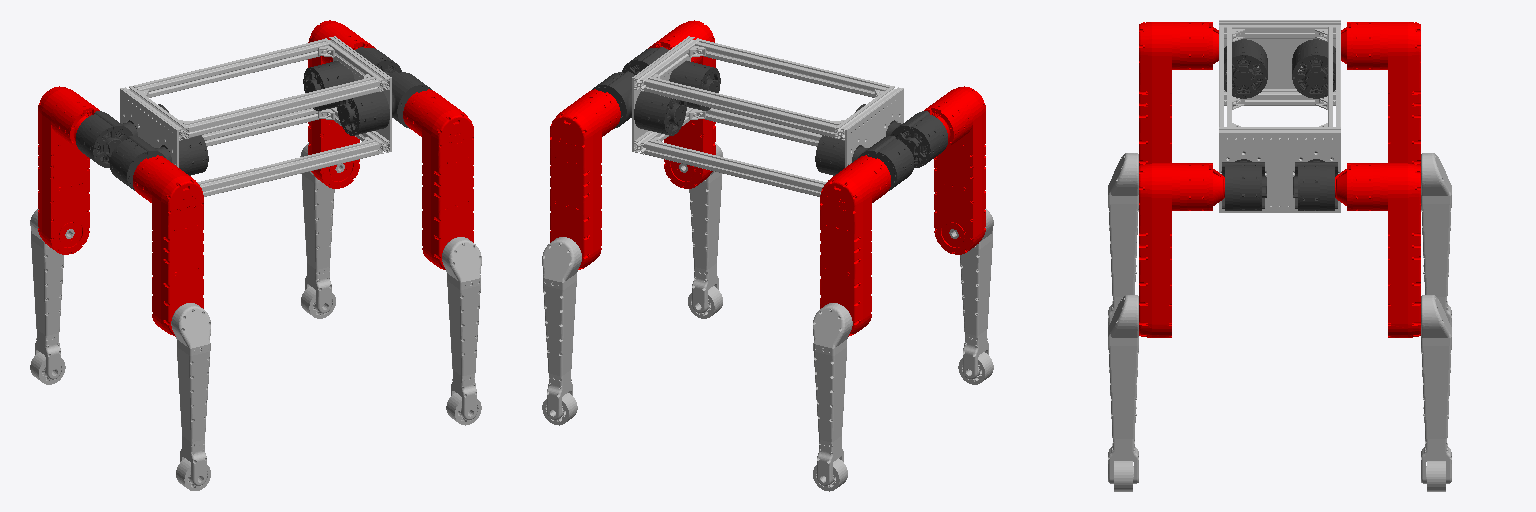
--- Facts derived from the render (not from the file) ---
3 views of the same robot in one strip: view 1: azimuth 30°, elevation 25°; view 2: azimuth 150°, elevation 25°; view 3: azimuth 270°, elevation 25° (orthographic).
Model dream_walker with 22 links and 21 joints (12 revolute, 9 fixed), rooted at base_link, posed all joints at 0.
Visible links, largest first — view 1: body_link, A2_link, C2_link, D2_link, C3_link, A3_link, D3_link, B3_link, B2_link, D1_link, A0_link, C1_link (+4 smaller); view 2: body_link, B2_link, D2_link, C2_link, D3_link, B3_link, C3_link, A3_link, A2_link, C1_link, B0_link, D1_link (+4 smaller); view 3: body_link, A2_link, B2_link, C2_link, D2_link, A3_link, B3_link, C3_link, D3_link, B1_link, A1_link, C0_link (+1 smaller).
Link boxes in pixels (x1=…): body_link: x1=120, y1=36, x2=391, y2=196; A2_link: x1=403, y1=89, x2=473, y2=269; C2_link: x1=133, y1=155, x2=203, y2=336; D2_link: x1=38, y1=86, x2=99, y2=254; C3_link: x1=171, y1=303, x2=210, y2=490; A3_link: x1=442, y1=237, x2=481, y2=425; D3_link: x1=30, y1=209, x2=74, y2=384; B3_link: x1=300, y1=143, x2=344, y2=318; B2_link: x1=308, y1=20, x2=375, y2=188; D1_link: x1=76, y1=111, x2=137, y2=167; A0_link: x1=337, y1=91, x2=389, y2=135; C1_link: x1=110, y1=136, x2=171, y2=190; body_link: x1=632, y1=36, x2=903, y2=196; B2_link: x1=550, y1=89, x2=620, y2=269; D2_link: x1=820, y1=155, x2=890, y2=336; C2_link: x1=924, y1=86, x2=985, y2=254; D3_link: x1=813, y1=303, x2=852, y2=491; B3_link: x1=542, y1=237, x2=581, y2=425; C3_link: x1=949, y1=209, x2=993, y2=384; A3_link: x1=679, y1=143, x2=722, y2=318; A2_link: x1=648, y1=20, x2=715, y2=188; C1_link: x1=886, y1=111, x2=947, y2=167; B0_link: x1=634, y1=91, x2=686, y2=135; D1_link: x1=852, y1=136, x2=913, y2=190; body_link: x1=1219, y1=20, x2=1340, y2=212; A2_link: x1=1139, y1=163, x2=1224, y2=337; B2_link: x1=1335, y1=163, x2=1420, y2=337; C2_link: x1=1139, y1=22, x2=1218, y2=165; D2_link: x1=1341, y1=22, x2=1420, y2=165; A3_link: x1=1108, y1=295, x2=1138, y2=491; B3_link: x1=1421, y1=295, x2=1451, y2=491; C3_link: x1=1108, y1=153, x2=1138, y2=326; D3_link: x1=1421, y1=153, x2=1451, y2=326; B1_link: x1=1293, y1=161, x2=1337, y2=210; A1_link: x1=1222, y1=161, x2=1266, y2=210; C0_link: x1=1224, y1=39, x2=1267, y2=98.
Size in the robot's own frame: 0.8771 by 0.785 by 0.863 metres.
Meshes: 17 distinct files referenced, 17 mesh visuals loaded (17 binary STL).

URDF robot description (dream_walker):
<?xml version="1.0" encoding="utf-8"?>
<!-- =================================================================================== -->
<!-- |    This document was autogenerated by xacro from dream_walker.urdf.xacro        | -->
<!-- |    EDITING THIS FILE BY HAND IS NOT RECOMMENDED                                 | -->
<!-- =================================================================================== -->
<robot name="dream_walker">
  <material name="red">
    <color rgba="1.0 0.0 0.0 2.0"/>
  </material>
  <material name="gray">
    <color rgba="0.4 0.4 0.6 2.0"/>
  </material>
  <material name="light_gray">
    <color rgba="0.8 0.8 0.8 2.0"/>
  </material>
  <material name="silver">
    <color rgba="0.75 0.75 0.75 2.0"/>
  </material>
  <material name="black">
    <color rgba="0.3 0.3 0.3 2.0"/>
  </material>
  <!-- body -->
  <link name="base_link"/>
  <joint name="body_link_joint" type="fixed">
    <parent link="base_link"/>
    <child link="body_link"/>
  </joint>
  <link name="body_link">
    <visual>
      <geometry>
        <mesh filename="package://dream_walker_description/meshes/body.STL"/>
      </geometry>
      <material name="">
        <color rgba="0.8 0.8 0.8 2.0"/>
      </material>
    </visual>
    <collision>
      <geometry>
        <mesh filename="package://dream_walker_description/meshes/body.STL"/>
      </geometry>
    </collision>
    <inertial>
      <origin xyz="0 0 0"/>
      <mass value="3.0"/>
      <inertia ixx="0.027819" ixy="1.0E-6" ixz="0" iyy="0.106496" iyz="0" izz="0.113695"/>
    </inertial>
  </link>
  <joint name="A0_joint" type="fixed">
    <origin rpy="0 0 0" xyz="0.3 -0.083 0.0"/>
    <parent link="base_link"/>
    <child link="A0_link"/>
    <axis xyz="0 0 0"/>
  </joint>
  <link name="A0_link">
    <visual>
      <origin xyz="-0.3 0.083 -0.0"/>
      <geometry>
        <mesh filename="package://dream_walker_description/meshes/A0_link.STL"/>
      </geometry>
      <material name="black"/>
    </visual>
    <collision>
      <geometry>
        <mesh filename="package://dream_walker_description/meshes/A0_link.STL"/>
      </geometry>
    </collision>
    <inertial>
      <origin xyz="0.261 -0.08298 -1e-05"/>
      <mass value="1.75"/>
      <inertia ixx="0.002137" ixy="1e-06" ixz="5e-06" iyy="0.002443" iyz="0" izz="0.002444"/>
    </inertial>
  </link>
  <joint name="B0_joint" type="fixed">
    <origin rpy="0 0 0" xyz="0.3 0.083 0.0"/>
    <parent link="base_link"/>
    <child link="B0_link"/>
    <axis xyz="0 0 0"/>
  </joint>
  <link name="B0_link">
    <visual>
      <origin xyz="-0.3 -0.083 -0.0"/>
      <geometry>
        <mesh filename="package://dream_walker_description/meshes/B0_link.STL"/>
      </geometry>
      <material name="black"/>
    </visual>
    <collision>
      <geometry>
        <mesh filename="package://dream_walker_description/meshes/B0_link.STL"/>
      </geometry>
    </collision>
    <inertial>
      <origin xyz="0.261 0.08298 -1e-05"/>
      <mass value="1.75"/>
      <inertia ixx="0.002137" ixy="1e-06" ixz="5e-06" iyy="0.002443" iyz="0" izz="0.002444"/>
    </inertial>
  </link>
  <joint name="C0_joint" type="fixed">
    <origin rpy="0 0 0" xyz="-0.3 -0.083 0.0"/>
    <parent link="base_link"/>
    <child link="C0_link"/>
    <axis xyz="0 0 0"/>
  </joint>
  <link name="C0_link">
    <visual>
      <origin xyz="0.3 0.083 -0.0"/>
      <geometry>
        <mesh filename="package://dream_walker_description/meshes/C0_link.STL"/>
      </geometry>
      <material name="black"/>
    </visual>
    <collision>
      <geometry>
        <mesh filename="package://dream_walker_description/meshes/C0_link.STL"/>
      </geometry>
    </collision>
    <inertial>
      <origin xyz="-0.261 -0.08298 -1e-05"/>
      <mass value="1.75"/>
      <inertia ixx="0.002137" ixy="-1e-06" ixz="5e-06" iyy="0.002443" iyz="0" izz="0.002444"/>
    </inertial>
  </link>
  <joint name="D0_joint" type="fixed">
    <origin rpy="0 0 0" xyz="-0.3 0.083 0.0"/>
    <parent link="base_link"/>
    <child link="D0_link"/>
    <axis xyz="0 0 0"/>
  </joint>
  <link name="D0_link">
    <visual>
      <origin xyz="0.3 -0.083 -0.0"/>
      <geometry>
        <mesh filename="package://dream_walker_description/meshes/D0_link.STL"/>
      </geometry>
      <material name="black"/>
    </visual>
    <collision>
      <geometry>
        <mesh filename="package://dream_walker_description/meshes/D0_link.STL"/>
      </geometry>
    </collision>
    <inertial>
      <origin xyz="-0.261 0.08298 -1e-05"/>
      <mass value="1.75"/>
      <inertia ixx="0.002137" ixy="-1e-06" ixz="5e-06" iyy="0.002443" iyz="0" izz="0.002444"/>
    </inertial>
  </link>
  <joint name="A1_joint" type="revolute">
    <origin rpy="0 0 0" xyz="0.0835 -0.0 0.0"/>
    <parent link="A0_link"/>
    <child link="A1_link"/>
    <axis xyz="1 0 0"/>
    <limit effort="1000" lower="-3.1416" upper="3.1416" velocity="1000"/>
  </joint>
  <link name="A1_link">
    <visual>
      <origin xyz="-0.3835 0.083 -0.0"/>
      <geometry>
        <mesh filename="package://dream_walker_description/meshes/A1_link.STL"/>
      </geometry>
      <material name="black"/>
    </visual>
    <collision>
      <geometry>
        <mesh filename="package://dream_walker_description/meshes/A1_link.STL"/>
      </geometry>
    </collision>
    <inertial>
      <origin xyz="0.1181 -0.00111 -4e-05"/>
      <mass value="1.74"/>
      <inertia ixx="0.00229" ixy="8e-06" ixz="1e-06" iyy="0.002657" iyz="1e-06" izz="0.002511"/>
    </inertial>
  </link>
  <joint name="B1_joint" type="revolute">
    <origin rpy="0 0 0" xyz="0.0835 0.0 0.0"/>
    <parent link="B0_link"/>
    <child link="B1_link"/>
    <axis xyz="1 0 0"/>
    <limit effort="1000" lower="-3.1416" upper="3.1416" velocity="1000"/>
  </joint>
  <link name="B1_link">
    <visual>
      <origin xyz="-0.3835 -0.083 -0.0"/>
      <geometry>
        <mesh filename="package://dream_walker_description/meshes/B1_link.STL"/>
      </geometry>
      <material name="black"/>
    </visual>
    <collision>
      <geometry>
        <mesh filename="package://dream_walker_description/meshes/B1_link.STL"/>
      </geometry>
    </collision>
    <inertial>
      <origin xyz="0.1181 0.00111 -4e-05"/>
      <mass value="1.74"/>
      <inertia ixx="0.00229" ixy="8e-06" ixz="1e-06" iyy="0.002657" iyz="1e-06" izz="0.002511"/>
    </inertial>
  </link>
  <joint name="C1_joint" type="revolute">
    <origin rpy="0 0 0" xyz="-0.0835 -0.0 0.0"/>
    <parent link="C0_link"/>
    <child link="C1_link"/>
    <axis xyz="1 0 0"/>
    <limit effort="1000" lower="-3.1416" upper="3.1416" velocity="1000"/>
  </joint>
  <link name="C1_link">
    <visual>
      <origin xyz="0.3835 0.083 -0.0"/>
      <geometry>
        <mesh filename="package://dream_walker_description/meshes/C1_link.STL"/>
      </geometry>
      <material name="black"/>
    </visual>
    <collision>
      <geometry>
        <mesh filename="package://dream_walker_description/meshes/C1_link.STL"/>
      </geometry>
    </collision>
    <inertial>
      <origin xyz="-0.1181 -0.00111 -4e-05"/>
      <mass value="1.74"/>
      <inertia ixx="0.00229" ixy="-8e-06" ixz="1e-06" iyy="0.002657" iyz="1e-06" izz="0.002511"/>
    </inertial>
  </link>
  <joint name="D1_joint" type="revolute">
    <origin rpy="0 0 0" xyz="-0.0835 0.0 0.0"/>
    <parent link="D0_link"/>
    <child link="D1_link"/>
    <axis xyz="1 0 0"/>
    <limit effort="1000" lower="-3.1416" upper="3.1416" velocity="1000"/>
  </joint>
  <link name="D1_link">
    <visual>
      <origin xyz="0.3835 -0.083 -0.0"/>
      <geometry>
        <mesh filename="package://dream_walker_description/meshes/D1_link.STL"/>
      </geometry>
      <material name="black"/>
    </visual>
    <collision>
      <geometry>
        <mesh filename="package://dream_walker_description/meshes/D1_link.STL"/>
      </geometry>
    </collision>
    <inertial>
      <origin xyz="-0.1181 0.00111 -4e-05"/>
      <mass value="1.74"/>
      <inertia ixx="0.00229" ixy="-8e-06" ixz="1e-06" iyy="0.002657" iyz="1e-06" izz="0.002511"/>
    </inertial>
  </link>
  <joint name="A2_joint" type="revolute">
    <origin rpy="0 0 0" xyz="0.0 -0.2095 0.0"/>
    <parent link="A1_link"/>
    <child link="A2_link"/>
    <axis xyz="0 1 0"/>
    <limit effort="1000" lower="-9.42" upper="9.42" velocity="1000"/>
  </joint>
  <link name="A2_link">
    <visual>
      <origin xyz="-0.3835 0.2925 0.0"/>
      <geometry>
        <mesh filename="package://dream_walker_description/meshes/A2_link.STL"/>
      </geometry>
      <material name="red"/>
    </visual>
    <collision>
      <geometry>
        <mesh filename="package://dream_walker_description/meshes/A2_link.STL"/>
      </geometry>
    </collision>
    <inertial>
      <origin xyz="0.0044 -0.16181 -0.09715"/>
      <mass value="3.66"/>
      <inertia ixx="0.075241" ixy="0" ixz="-5e-06" iyy="0.069683" iyz="0.013776" izz="0.011896"/>
    </inertial>
  </link>
  <joint name="B2_joint" type="revolute">
    <origin rpy="0 0 0" xyz="0.0 0.2095 0.0"/>
    <parent link="B1_link"/>
    <child link="B2_link"/>
    <axis xyz="0 1 0"/>
    <limit effort="1000" lower="-9.42" upper="9.42" velocity="1000"/>
  </joint>
  <link name="B2_link">
    <visual>
      <origin xyz="-0.3835 -0.2925 0.0"/>
      <geometry>
        <mesh filename="package://dream_walker_description/meshes/B2_link.STL"/>
      </geometry>
      <material name="red"/>
    </visual>
    <collision>
      <geometry>
        <mesh filename="package://dream_walker_description/meshes/B2_link.STL"/>
      </geometry>
    </collision>
    <inertial>
      <origin xyz="0.0044 0.16181 -0.09715"/>
      <mass value="3.66"/>
      <inertia ixx="0.075241" ixy="0" ixz="5e-06" iyy="0.069683" iyz="-0.013776" izz="0.011896"/>
    </inertial>
  </link>
  <joint name="C2_joint" type="revolute">
    <origin rpy="0 0 0" xyz="-0.0 -0.2095 0.0"/>
    <parent link="C1_link"/>
    <child link="C2_link"/>
    <axis xyz="0 1 0"/>
    <limit effort="1000" lower="-9.42" upper="9.42" velocity="1000"/>
  </joint>
  <link name="C2_link">
    <visual>
      <origin xyz="0.3835 0.2925 0.0"/>
      <geometry>
        <mesh filename="package://dream_walker_description/meshes/C2_link.STL"/>
      </geometry>
      <material name="red"/>
    </visual>
    <collision>
      <geometry>
        <mesh filename="package://dream_walker_description/meshes/C2_link.STL"/>
      </geometry>
    </collision>
    <inertial>
      <origin xyz="-0.0044 -0.16181 -0.09715"/>
      <mass value="3.66"/>
      <inertia ixx="0.075241" ixy="0" ixz="-5e-06" iyy="0.069683" iyz="0.013776" izz="0.011896"/>
    </inertial>
  </link>
  <joint name="D2_joint" type="revolute">
    <origin rpy="0 0 0" xyz="-0.0 0.2095 0.0"/>
    <parent link="D1_link"/>
    <child link="D2_link"/>
    <axis xyz="0 1 0"/>
    <limit effort="1000" lower="-9.42" upper="9.42" velocity="1000"/>
  </joint>
  <link name="D2_link">
    <visual>
      <origin xyz="0.3835 -0.2925 0.0"/>
      <geometry>
        <mesh filename="package://dream_walker_description/meshes/D2_link.STL"/>
      </geometry>
      <material name="red"/>
    </visual>
    <collision>
      <geometry>
        <mesh filename="package://dream_walker_description/meshes/D2_link.STL"/>
      </geometry>
    </collision>
    <inertial>
      <origin xyz="-0.0044 0.16181 -0.09715"/>
      <mass value="3.66"/>
      <inertia ixx="0.075241" ixy="0" ixz="5e-06" iyy="0.069683" iyz="-0.013776" izz="0.011896"/>
    </inertial>
  </link>
  <joint name="A3_joint" type="revolute">
    <origin rpy="0 0 0" xyz="0.0 -0.065 -0.32"/>
    <parent link="A2_link"/>
    <child link="A3_link"/>
    <axis xyz="0 1 0"/>
    <limit effort="1000" lower="-9.42" upper="9.42" velocity="1000"/>
  </joint>
  <link name="A3_link">
    <visual>
      <origin xyz="-0.3835 0.3575 0.32"/>
      <geometry>
        <mesh filename="package://dream_walker_description/meshes/A3_link.STL"/>
      </geometry>
      <material name="silver"/>
    </visual>
    <collision>
      <geometry>
        <mesh filename="package://dream_walker_description/meshes/A3_link.STL"/>
      </geometry>
    </collision>
    <inertial>
      <origin xyz="0.0 -0.11169 -0.41291"/>
      <mass value="1.72"/>
      <inertia ixx="0.026984" ixy="0" ixz="-0" iyy="0.026649" iyz="0.000717" izz="0.001426"/>
    </inertial>
  </link>
  <joint name="B3_joint" type="revolute">
    <origin rpy="0 0 0" xyz="0.0 0.065 -0.32"/>
    <parent link="B2_link"/>
    <child link="B3_link"/>
    <axis xyz="0 1 0"/>
    <limit effort="1000" lower="-9.42" upper="9.42" velocity="1000"/>
  </joint>
  <link name="B3_link">
    <visual>
      <origin xyz="-0.3835 -0.3575 0.32"/>
      <geometry>
        <mesh filename="package://dream_walker_description/meshes/B3_link.STL"/>
      </geometry>
      <material name="silver"/>
    </visual>
    <collision>
      <geometry>
        <mesh filename="package://dream_walker_description/meshes/B3_link.STL"/>
      </geometry>
    </collision>
    <inertial>
      <origin xyz="0.0 0.11169 -0.41291"/>
      <mass value="1.72"/>
      <inertia ixx="0.026984" ixy="0" ixz="0" iyy="0.026649" iyz="-0.000717" izz="0.001426"/>
    </inertial>
  </link>
  <joint name="C3_joint" type="revolute">
    <origin rpy="0 0 0" xyz="-0.0 -0.065 -0.32"/>
    <parent link="C2_link"/>
    <child link="C3_link"/>
    <axis xyz="0 1 0"/>
    <limit effort="1000" lower="-9.42" upper="9.42" velocity="1000"/>
  </joint>
  <link name="C3_link">
    <visual>
      <origin xyz="0.3835 0.3575 0.32"/>
      <geometry>
        <mesh filename="package://dream_walker_description/meshes/C3_link.STL"/>
      </geometry>
      <material name="silver"/>
    </visual>
    <collision>
      <geometry>
        <mesh filename="package://dream_walker_description/meshes/C3_link.STL"/>
      </geometry>
    </collision>
    <inertial>
      <origin xyz="-0.0 -0.11169 -0.41291"/>
      <mass value="1.72"/>
      <inertia ixx="0.026984" ixy="0" ixz="-0" iyy="0.026649" iyz="0.000717" izz="0.001426"/>
    </inertial>
  </link>
  <joint name="D3_joint" type="revolute">
    <origin rpy="0 0 0" xyz="-0.0 0.065 -0.32"/>
    <parent link="D2_link"/>
    <child link="D3_link"/>
    <axis xyz="0 1 0"/>
    <limit effort="1000" lower="-9.42" upper="9.42" velocity="1000"/>
  </joint>
  <link name="D3_link">
    <visual>
      <origin xyz="0.3835 -0.3575 0.32"/>
      <geometry>
        <mesh filename="package://dream_walker_description/meshes/D3_link.STL"/>
      </geometry>
      <material name="silver"/>
    </visual>
    <collision>
      <geometry>
        <mesh filename="package://dream_walker_description/meshes/D3_link.STL"/>
      </geometry>
    </collision>
    <inertial>
      <origin xyz="-0.0 0.11169 -0.41291"/>
      <mass value="1.72"/>
      <inertia ixx="0.026984" ixy="0" ixz="0" iyy="0.026649" iyz="-0.000717" izz="0.001426"/>
    </inertial>
  </link>
  <joint name="A4_joint" type="fixed">
    <origin rpy="0 0 0" xyz="0.0 -0.0 -0.443"/>
    <parent link="A3_link"/>
    <child link="A4_link"/>
  </joint>
  <link name="A4_link"/>
  <joint name="B4_joint" type="fixed">
    <origin rpy="0 0 0" xyz="0.0 0.0 -0.443"/>
    <parent link="B3_link"/>
    <child link="B4_link"/>
  </joint>
  <link name="B4_link"/>
  <joint name="C4_joint" type="fixed">
    <origin rpy="0 0 0" xyz="-0.0 -0.0 -0.443"/>
    <parent link="C3_link"/>
    <child link="C4_link"/>
  </joint>
  <link name="C4_link"/>
  <joint name="D4_joint" type="fixed">
    <origin rpy="0 0 0" xyz="-0.0 0.0 -0.443"/>
    <parent link="D3_link"/>
    <child link="D4_link"/>
  </joint>
  <link name="D4_link"/>
  <transmission name="A1_joint_trans">
    <type>transmission_interface/SimpleTransmission</type>
    <joint name="A1_joint">
      <hardwareInterface>hardware_interface/EffortJointInterface</hardwareInterface>
    </joint>
    <actuator name="A1_joint_motor">
      <hardwareInterface>hardware_interface/EffortJointInterface</hardwareInterface>
      <mechanicalReduction>1</mechanicalReduction>
    </actuator>
  </transmission>
  <transmission name="A2_joint_trans">
    <type>transmission_interface/SimpleTransmission</type>
    <joint name="A2_joint">
      <hardwareInterface>hardware_interface/EffortJointInterface</hardwareInterface>
    </joint>
    <actuator name="A2_joint_motor">
      <hardwareInterface>hardware_interface/EffortJointInterface</hardwareInterface>
      <mechanicalReduction>1</mechanicalReduction>
    </actuator>
  </transmission>
  <transmission name="A3_joint_trans">
    <type>transmission_interface/SimpleTransmission</type>
    <joint name="A3_joint">
      <hardwareInterface>hardware_interface/EffortJointInterface</hardwareInterface>
    </joint>
    <actuator name="A3_joint_motor">
      <hardwareInterface>hardware_interface/EffortJointInterface</hardwareInterface>
      <mechanicalReduction>1</mechanicalReduction>
    </actuator>
  </transmission>
  <transmission name="B1_joint_trans">
    <type>transmission_interface/SimpleTransmission</type>
    <joint name="B1_joint">
      <hardwareInterface>hardware_interface/EffortJointInterface</hardwareInterface>
    </joint>
    <actuator name="B1_joint_motor">
      <hardwareInterface>hardware_interface/EffortJointInterface</hardwareInterface>
      <mechanicalReduction>1</mechanicalReduction>
    </actuator>
  </transmission>
  <transmission name="B2_joint_trans">
    <type>transmission_interface/SimpleTransmission</type>
    <joint name="B2_joint">
      <hardwareInterface>hardware_interface/EffortJointInterface</hardwareInterface>
    </joint>
    <actuator name="B2_joint_motor">
      <hardwareInterface>hardware_interface/EffortJointInterface</hardwareInterface>
      <mechanicalReduction>1</mechanicalReduction>
    </actuator>
  </transmission>
  <transmission name="B3_joint_trans">
    <type>transmission_interface/SimpleTransmission</type>
    <joint name="B3_joint">
      <hardwareInterface>hardware_interface/EffortJointInterface</hardwareInterface>
    </joint>
    <actuator name="B3_joint_motor">
      <hardwareInterface>hardware_interface/EffortJointInterface</hardwareInterface>
      <mechanicalReduction>1</mechanicalReduction>
    </actuator>
  </transmission>
  <transmission name="C1_joint_trans">
    <type>transmission_interface/SimpleTransmission</type>
    <joint name="C1_joint">
      <hardwareInterface>hardware_interface/EffortJointInterface</hardwareInterface>
    </joint>
    <actuator name="C1_joint_motor">
      <hardwareInterface>hardware_interface/EffortJointInterface</hardwareInterface>
      <mechanicalReduction>1</mechanicalReduction>
    </actuator>
  </transmission>
  <transmission name="C2_joint_trans">
    <type>transmission_interface/SimpleTransmission</type>
    <joint name="C2_joint">
      <hardwareInterface>hardware_interface/EffortJointInterface</hardwareInterface>
    </joint>
    <actuator name="C2_joint_motor">
      <hardwareInterface>hardware_interface/EffortJointInterface</hardwareInterface>
      <mechanicalReduction>1</mechanicalReduction>
    </actuator>
  </transmission>
  <transmission name="C3_joint_trans">
    <type>transmission_interface/SimpleTransmission</type>
    <joint name="C3_joint">
      <hardwareInterface>hardware_interface/EffortJointInterface</hardwareInterface>
    </joint>
    <actuator name="C3_joint_motor">
      <hardwareInterface>hardware_interface/EffortJointInterface</hardwareInterface>
      <mechanicalReduction>1</mechanicalReduction>
    </actuator>
  </transmission>
  <transmission name="D1_joint_trans">
    <type>transmission_interface/SimpleTransmission</type>
    <joint name="D1_joint">
      <hardwareInterface>hardware_interface/EffortJointInterface</hardwareInterface>
    </joint>
    <actuator name="D1_joint_motor">
      <hardwareInterface>hardware_interface/EffortJointInterface</hardwareInterface>
      <mechanicalReduction>1</mechanicalReduction>
    </actuator>
  </transmission>
  <transmission name="D2_joint_trans">
    <type>transmission_interface/SimpleTransmission</type>
    <joint name="D2_joint">
      <hardwareInterface>hardware_interface/EffortJointInterface</hardwareInterface>
    </joint>
    <actuator name="D2_joint_motor">
      <hardwareInterface>hardware_interface/EffortJointInterface</hardwareInterface>
      <mechanicalReduction>1</mechanicalReduction>
    </actuator>
  </transmission>
  <transmission name="D3_joint_trans">
    <type>transmission_interface/SimpleTransmission</type>
    <joint name="D3_joint">
      <hardwareInterface>hardware_interface/EffortJointInterface</hardwareInterface>
    </joint>
    <actuator name="D3_joint_motor">
      <hardwareInterface>hardware_interface/EffortJointInterface</hardwareInterface>
      <mechanicalReduction>1</mechanicalReduction>
    </actuator>
  </transmission>
  <!-- =============== Gazebo =============== -->
  <gazebo>
    <plugin filename="libgazebo_ros_control.so" name="gazebo_ros_control">
      <!-- <robotNamespace>fourth_robot</robotNamespace> -->
    </plugin>
  </gazebo>
  <!-- Body -->
  <gazebo>
    <plugin filename="libgazebo_ros_p3d.so" name="p3d_base_controller">
      <alwaysOn>true</alwaysOn>
      <updateRate>25.0</updateRate>
      <bodyName>base_link</bodyName>
      <topicName>odom/ground_truth</topicName>
      <gaussianNoise>0.01</gaussianNoise>
      <frameName>world</frameName>
      <xyzOffsets>0 0 0</xyzOffsets>
      <rpyOffsets>0 0 0</rpyOffsets>
    </plugin>
  </gazebo>
  <gazebo>
    <plugin filename="libgazebo_ros_control.so" name="gazebo_ros_control">
      <robotNamespace>/dream_walker</robotNamespace>
      <legacyModeNS>true</legacyModeNS>
    </plugin>
  </gazebo>
  <gazebo reference="body_link">
    <material>Gazebo/Gray</material>
  </gazebo>
  <gazebo reference="A0_link">
    <material>Gazebo/FratBlack</material>
    <kp>1000000.0</kp>
    <kd>1.0</kd>
    <mu1>0.8</mu1>
    <mu2>0.8</mu2>
    <maxVel>0.0</maxVel>
    <minDepth>0.001</minDepth>
  </gazebo>
  <gazebo reference="B0_link">
    <material>Gazebo/FratBlack</material>
    <kp>1000000.0</kp>
    <kd>1.0</kd>
    <mu1>0.8</mu1>
    <mu2>0.8</mu2>
    <maxVel>0.0</maxVel>
    <minDepth>0.001</minDepth>
  </gazebo>
  <gazebo reference="C0_link">
    <material>Gazebo/FratBlack</material>
    <kp>1000000.0</kp>
    <kd>1.0</kd>
    <mu1>0.8</mu1>
    <mu2>0.8</mu2>
    <maxVel>0.0</maxVel>
    <minDepth>0.001</minDepth>
  </gazebo>
  <gazebo reference="D0_link">
    <material>Gazebo/FratBlack</material>
    <kp>1000000.0</kp>
    <kd>1.0</kd>
    <mu1>0.8</mu1>
    <mu2>0.8</mu2>
    <maxVel>0.0</maxVel>
    <minDepth>0.001</minDepth>
  </gazebo>
  <gazebo reference="A1_link">
    <material>Gazebo/FratBlack</material>
    <kp>1000000.0</kp>
    <kd>1.0</kd>
    <mu1>0.8</mu1>
    <mu2>0.8</mu2>
    <maxVel>0.0</maxVel>
    <minDepth>0.001</minDepth>
  </gazebo>
  <gazebo reference="B1_link">
    <material>Gazebo/FratBlack</material>
    <kp>1000000.0</kp>
    <kd>1.0</kd>
    <mu1>0.8</mu1>
    <mu2>0.8</mu2>
    <maxVel>0.0</maxVel>
    <minDepth>0.001</minDepth>
  </gazebo>
  <gazebo reference="C1_link">
    <material>Gazebo/FratBlack</material>
    <kp>1000000.0</kp>
    <kd>1.0</kd>
    <mu1>0.8</mu1>
    <mu2>0.8</mu2>
    <maxVel>0.0</maxVel>
    <minDepth>0.001</minDepth>
  </gazebo>
  <gazebo reference="D1_link">
    <material>Gazebo/FratBlack</material>
    <kp>1000000.0</kp>
    <kd>1.0</kd>
    <mu1>0.8</mu1>
    <mu2>0.8</mu2>
    <maxVel>0.0</maxVel>
    <minDepth>0.001</minDepth>
  </gazebo>
  <gazebo reference="A2_link">
    <material>Gazebo/Red</material>
    <kp>1000000.0</kp>
    <kd>1.0</kd>
    <mu1>0.8</mu1>
    <mu2>0.8</mu2>
    <maxVel>0.0</maxVel>
    <minDepth>0.001</minDepth>
  </gazebo>
  <gazebo reference="B2_link">
    <material>Gazebo/Red</material>
    <kp>1000000.0</kp>
    <kd>1.0</kd>
    <mu1>0.8</mu1>
    <mu2>0.8</mu2>
    <maxVel>0.0</maxVel>
    <minDepth>0.001</minDepth>
  </gazebo>
  <gazebo reference="C2_link">
    <material>Gazebo/Red</material>
    <kp>1000000.0</kp>
    <kd>1.0</kd>
    <mu1>0.8</mu1>
    <mu2>0.8</mu2>
    <maxVel>0.0</maxVel>
    <minDepth>0.001</minDepth>
  </gazebo>
  <gazebo reference="D2_link">
    <material>Gazebo/Red</material>
    <kp>1000000.0</kp>
    <kd>1.0</kd>
    <mu1>0.8</mu1>
    <mu2>0.8</mu2>
    <maxVel>0.0</maxVel>
    <minDepth>0.001</minDepth>
  </gazebo>
  <gazebo reference="A3_link">
    <material>Gazebo/DarkGray</material>
    <kp>1000000.0</kp>
    <kd>1.0</kd>
    <mu1>0.8</mu1>
    <mu2>0.8</mu2>
    <maxVel>0.0</maxVel>
    <minDepth>0.001</minDepth>
  </gazebo>
  <gazebo reference="B3_link">
    <material>Gazebo/DarkGray</material>
    <kp>1000000.0</kp>
    <kd>1.0</kd>
    <mu1>0.8</mu1>
    <mu2>0.8</mu2>
    <maxVel>0.0</maxVel>
    <minDepth>0.001</minDepth>
  </gazebo>
  <gazebo reference="C3_link">
    <material>Gazebo/DarkGray</material>
    <kp>1000000.0</kp>
    <kd>1.0</kd>
    <mu1>0.8</mu1>
    <mu2>0.8</mu2>
    <maxVel>0.0</maxVel>
    <minDepth>0.001</minDepth>
  </gazebo>
  <gazebo reference="D3_link">
    <material>Gazebo/DarkGray</material>
    <kp>1000000.0</kp>
    <kd>1.0</kd>
    <mu1>0.8</mu1>
    <mu2>0.8</mu2>
    <maxVel>0.0</maxVel>
    <minDepth>0.001</minDepth>
  </gazebo>
  <gazebo reference="A4_link">
    <kp>1000000.0</kp>
    <kd>1.0</kd>
    <mu1>0.8</mu1>
    <mu2>0.8</mu2>
    <maxVel>0.0</maxVel>
    <minDepth>0.001</minDepth>
  </gazebo>
  <gazebo reference="B4_link">
    <kp>1000000.0</kp>
    <kd>1.0</kd>
    <mu1>0.8</mu1>
    <mu2>0.8</mu2>
    <maxVel>0.0</maxVel>
    <minDepth>0.001</minDepth>
  </gazebo>
  <gazebo reference="C4_link">
    <kp>1000000.0</kp>
    <kd>1.0</kd>
    <mu1>0.8</mu1>
    <mu2>0.8</mu2>
    <maxVel>0.0</maxVel>
    <minDepth>0.001</minDepth>
  </gazebo>
  <gazebo reference="D4_link">
    <kp>1000000.0</kp>
    <kd>1.0</kd>
    <mu1>0.8</mu1>
    <mu2>0.8</mu2>
    <maxVel>0.0</maxVel>
    <minDepth>0.001</minDepth>
  </gazebo>
</robot>
